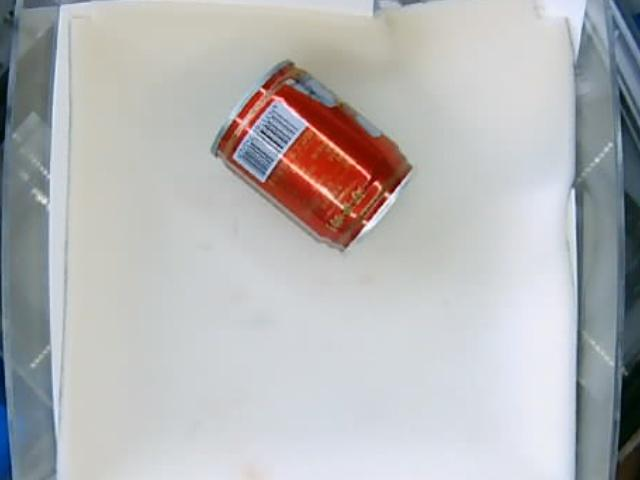Bottle: (214, 57, 414, 253)
